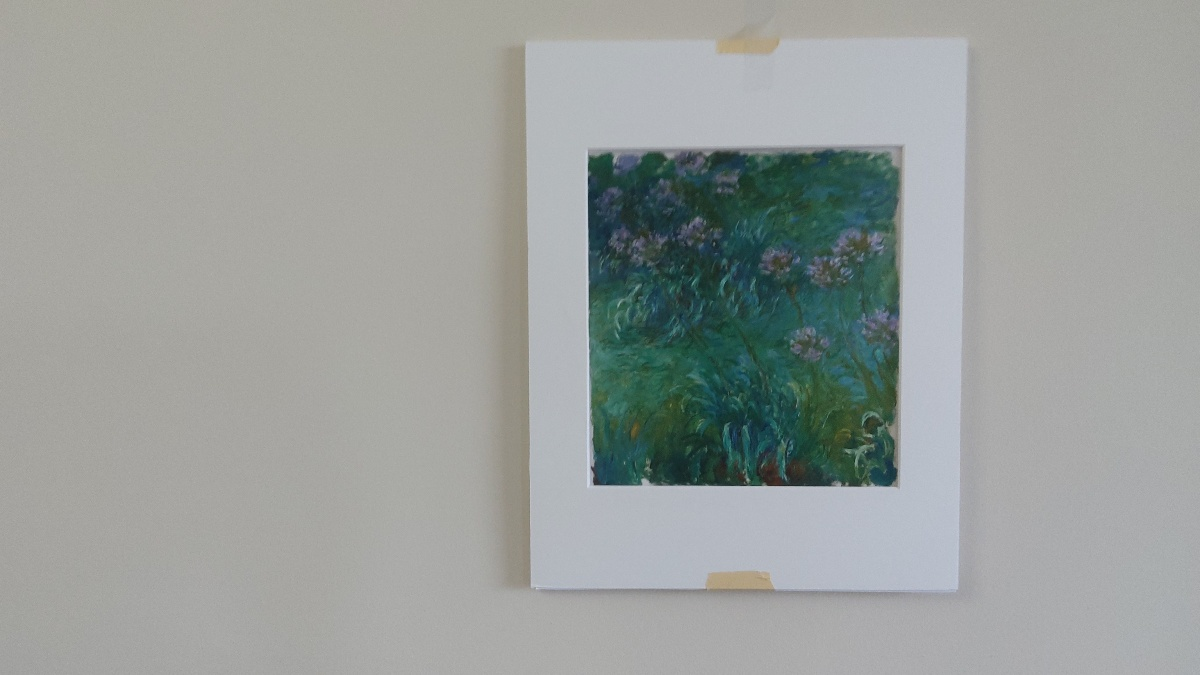painting: (578, 140, 914, 494)
